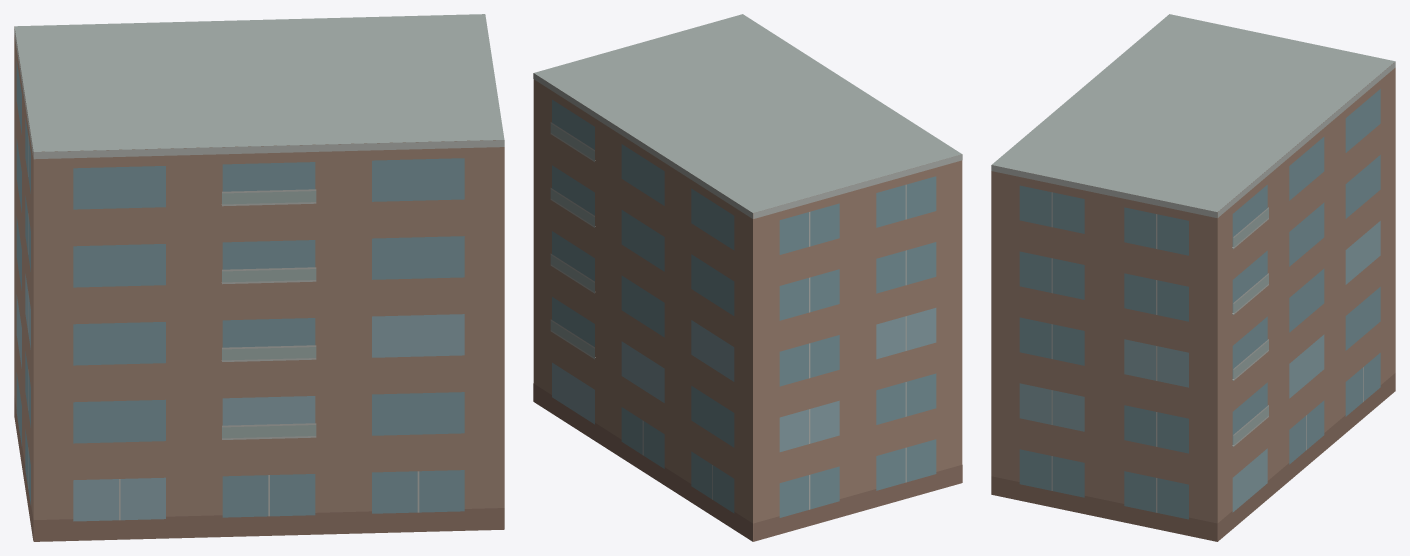
The model's file is survey-upis-32881826.glb.
3 views of the same model, side by side, from view 1: azimuth 30°, elevation 25°; view 2: azimuth 150°, elevation 25°; view 3: azimuth 270°, elevation 25° (orthographic). The views are drawn at different scales.
Parts seen in each view (by area): view 1: survey-upis-32881826.tmp; view 2: survey-upis-32881826.tmp; view 3: survey-upis-32881826.tmp.
Boxes of the visible parts, x1=… form: survey-upis-32881826.tmp: x1=14, y1=14, x2=504, y2=541; survey-upis-32881826.tmp: x1=533, y1=14, x2=962, y2=541; survey-upis-32881826.tmp: x1=991, y1=14, x2=1395, y2=541.
Bounding box in the file's own units: 17.02 × 13.2 × 14.67.
